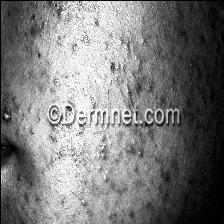Non-Cancerous Skin Condition: (105, 58, 120, 70), (0, 108, 9, 121), (99, 142, 105, 160), (81, 196, 87, 214), (56, 6, 62, 20)
